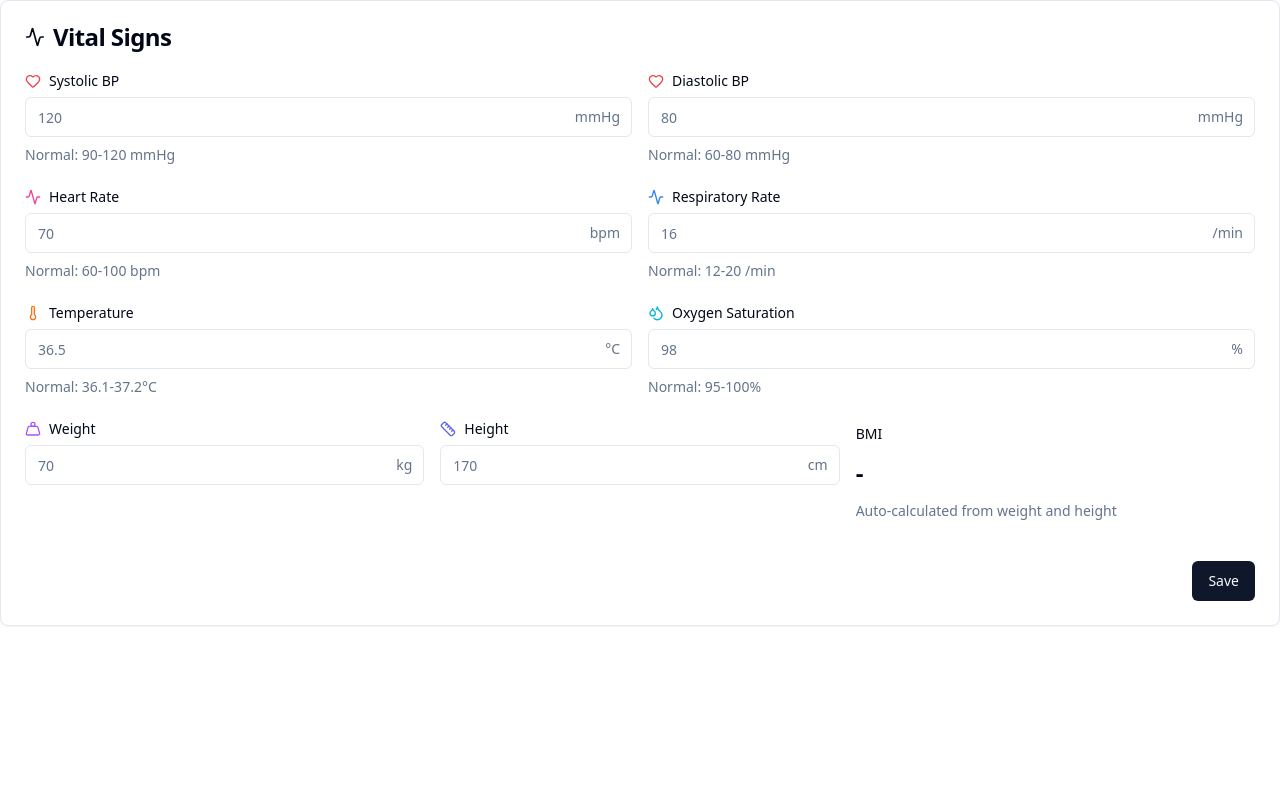
Test case: VitalsInput › Validation › shows error for diastolic BP outside valid range
Type "200" into the number field with placeholder "80".
click(952, 117); type("200")  # box x1=648 y1=97 x2=1255 y2=137
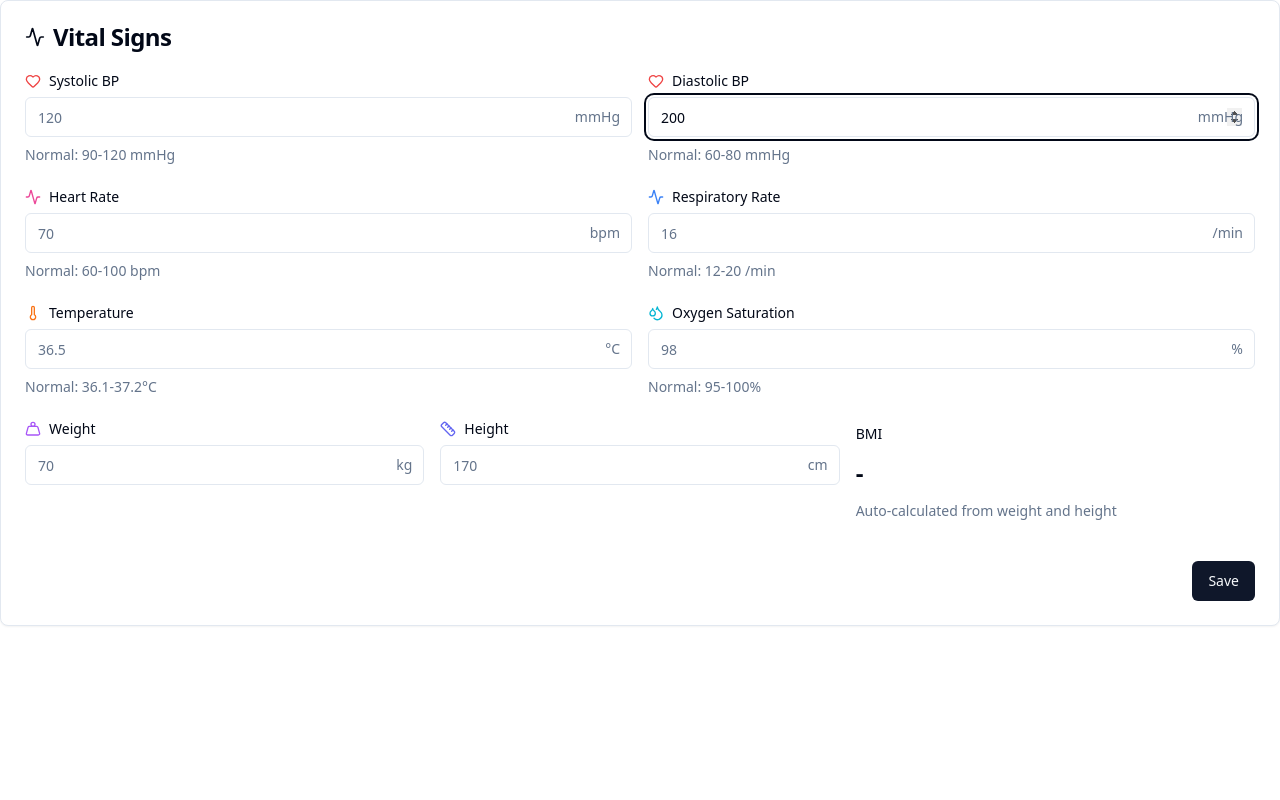
Click the button "Save".
click(1224, 581)  # box x1=1192 y1=561 x2=1255 y2=601
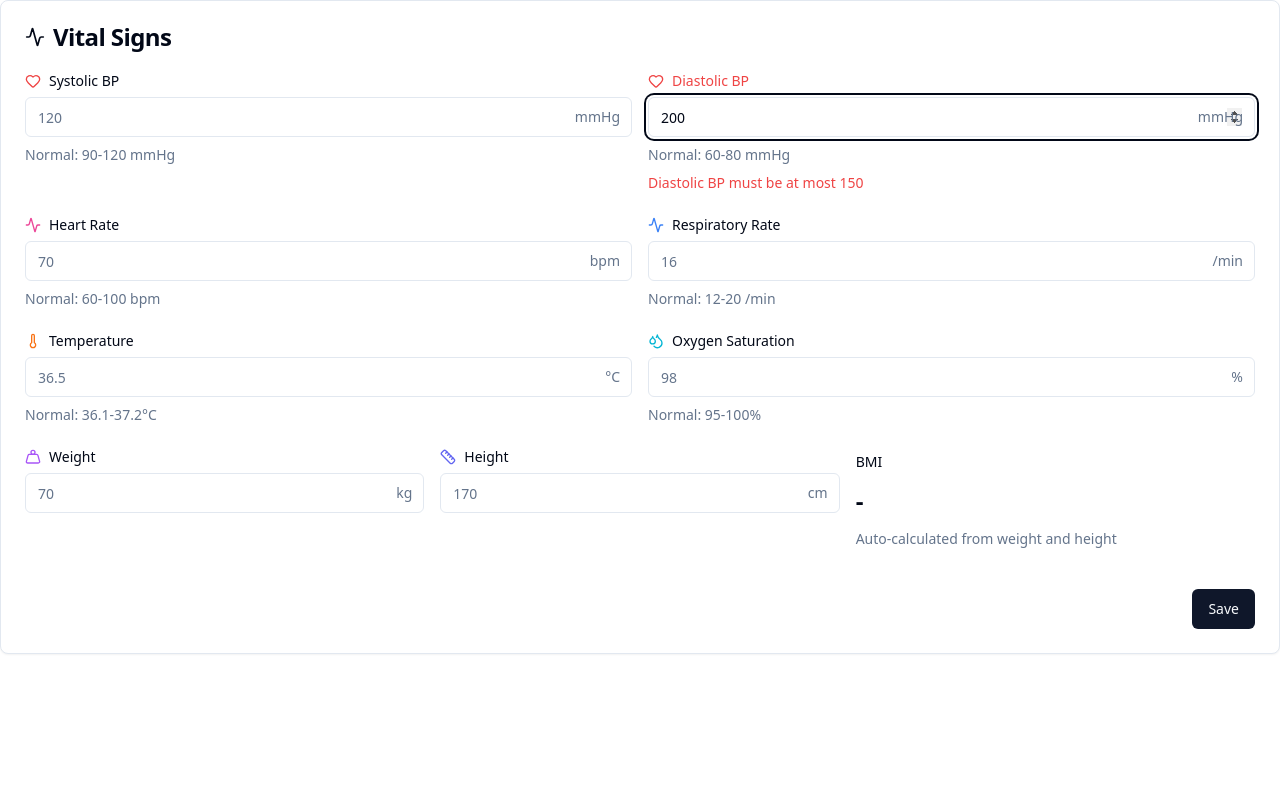
expect the text "Diastolic BP must be at most 150" is shown: met, box x1=648 y1=173 x2=864 y2=192
